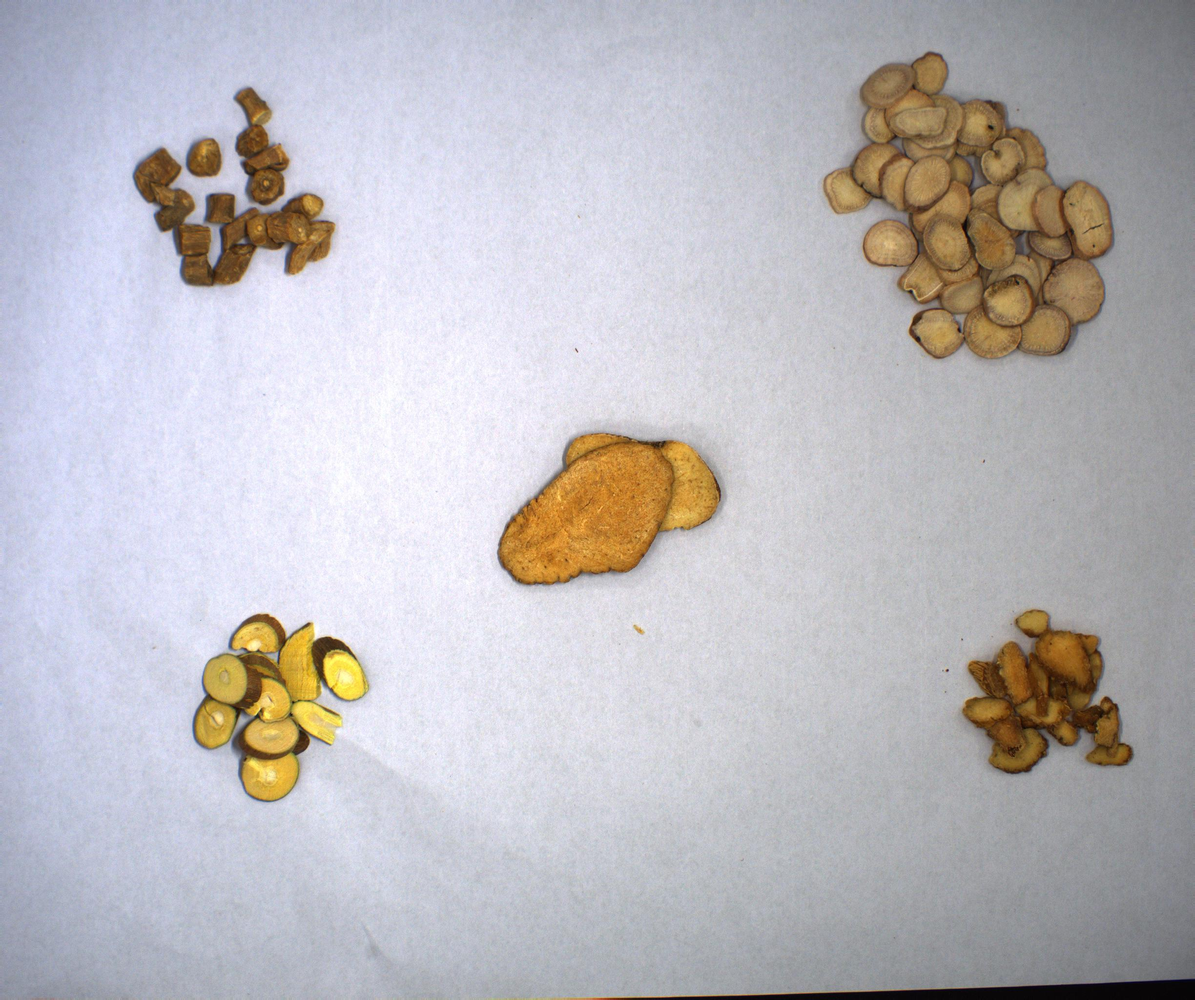baishao: (820, 48, 1118, 368)
niuxi: (115, 76, 344, 294)
sangzhi: (184, 608, 377, 809)
yuzhu: (952, 603, 1143, 789)
zexie: (479, 419, 733, 591)
